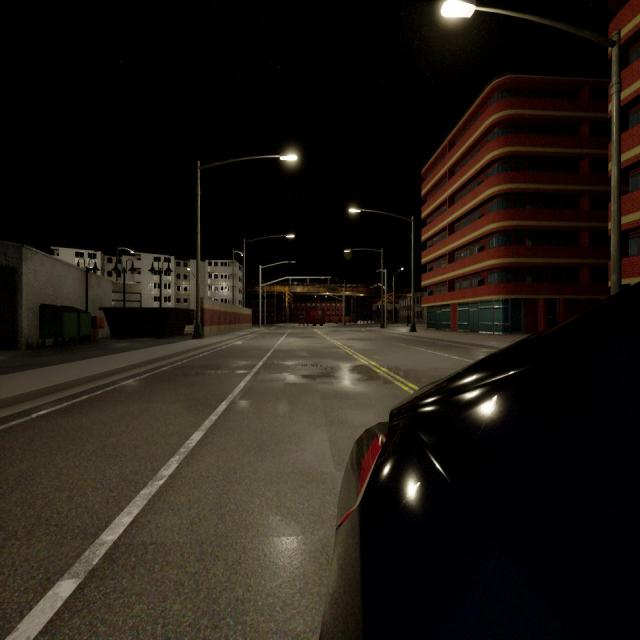Pedestrian: (406, 311, 410, 326)
Vehicle: (326, 287, 640, 638), (306, 311, 322, 326), (298, 316, 305, 326)
traffic_light: (328, 278, 330, 285), (307, 278, 309, 284), (290, 278, 292, 284), (325, 295, 327, 298), (315, 294, 316, 298)
